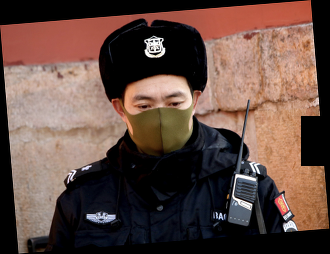with_mask: (126, 90, 197, 155)
